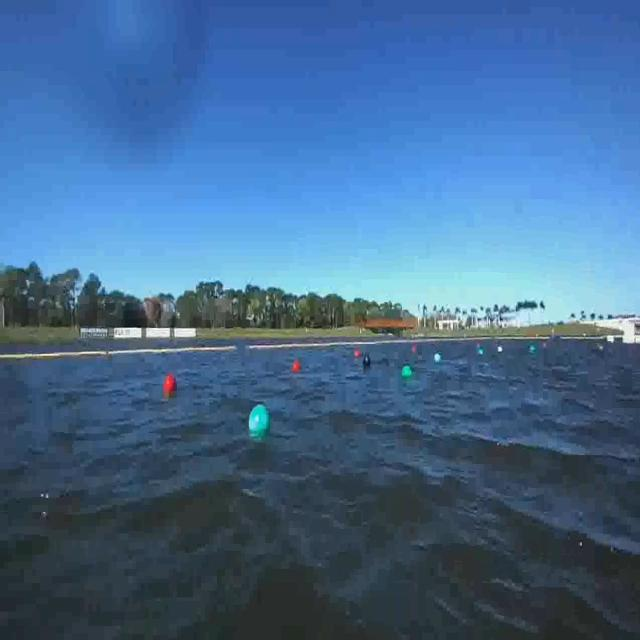black-buoy: (362, 356, 370, 368)
green-buoy: (252, 406, 271, 437), (404, 364, 413, 378)
red-buoy: (163, 373, 176, 393), (292, 360, 300, 373), (355, 351, 361, 359)
